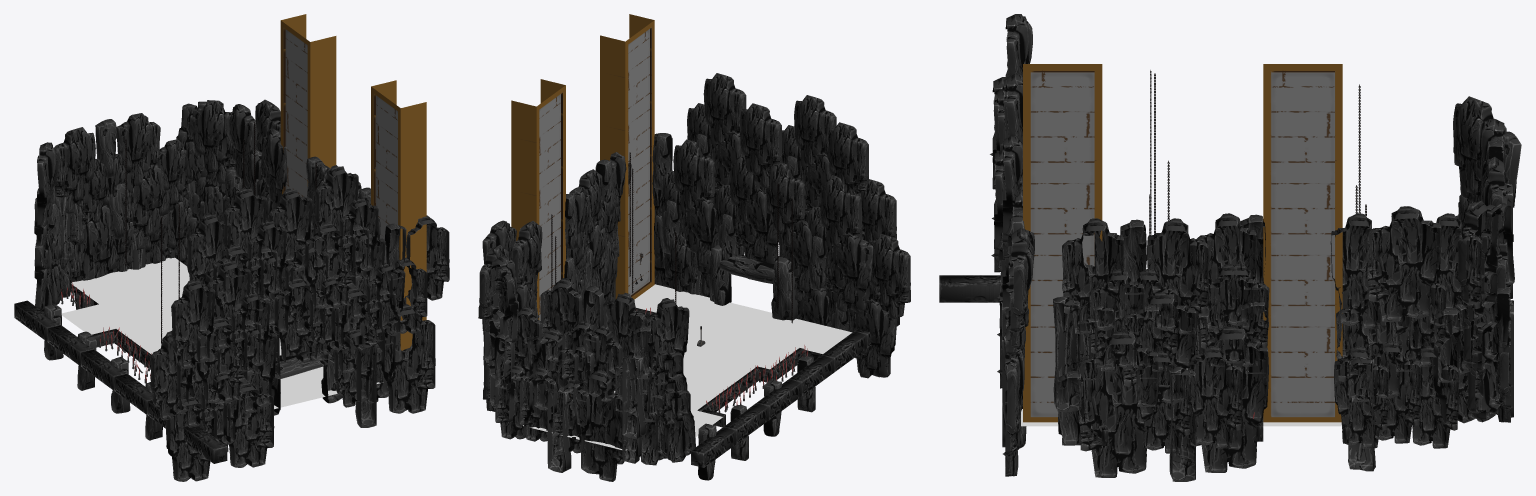
The model's file is Room1_Prototype.fbx.
The picture shows the model from 3 angles, left to right: view 1: azimuth 30°, elevation 25°; view 2: azimuth 150°, elevation 25°; view 3: azimuth 270°, elevation 25°; orthographic projection. The views are drawn at different scales.
Parts seen in each view (by area): view 1: Cube.012, Cube.006, Cube.011, roks.073, Plane.013, roks.110, roks.099, roks.086, roks.030, roks.031, roks.027, roks.085 (+63 smaller); view 2: Cube.012, Cube.006, Plane.012, Cube.011, roks.031, roks.092, roks.108, roks.111, Plane.003, roks.034, roks.102, roks.109 (+70 smaller); view 3: Cube.006, Cube.012, roks.060, roks.071, roks.062, roks.065, roks.059, roks.007, roks.004, roks.012, roks.006, roks.010 (+41 smaller).
Boxes of the visible parts, bbox=[...] form: Cube.012: bbox=[371, 113, 426, 350]; Cube.006: bbox=[280, 47, 336, 197]; Cube.011: bbox=[14, 300, 227, 463]; roks.073: bbox=[381, 304, 435, 413]; Plane.013: bbox=[71, 257, 189, 304]; roks.110: bbox=[171, 279, 215, 369]; roks.099: bbox=[222, 382, 274, 467]; roks.086: bbox=[304, 222, 355, 308]; roks.030: bbox=[54, 127, 95, 213]; roks.031: bbox=[70, 205, 118, 309]; roks.027: bbox=[192, 100, 235, 183]; roks.085: bbox=[314, 165, 358, 254]; Cube.012: bbox=[600, 47, 654, 279]; Cube.006: bbox=[511, 112, 565, 320]; Plane.012: bbox=[634, 284, 852, 353]; Cube.011: bbox=[691, 317, 899, 467]; roks.031: bbox=[573, 370, 627, 481]; roks.092: bbox=[824, 233, 873, 311]; roks.108: bbox=[739, 103, 782, 188]; roks.111: bbox=[869, 234, 910, 319]; Plane.003: bbox=[686, 321, 786, 366]; roks.034: bbox=[540, 278, 582, 362]; roks.102: bbox=[848, 299, 897, 378]; roks.109: bbox=[827, 122, 868, 196]; Cube.006: bbox=[1263, 100, 1342, 388]; Cube.012: bbox=[1023, 100, 1102, 388]; roks.060: bbox=[1078, 330, 1158, 477]; roks.071: bbox=[1366, 206, 1441, 321]; roks.062: bbox=[1147, 218, 1209, 334]; roks.065: bbox=[1188, 346, 1243, 448]; roks.059: bbox=[1062, 218, 1124, 334]; roks.007: bbox=[1188, 325, 1268, 472]; roks.004: bbox=[1404, 346, 1459, 448]; roks.012: bbox=[1336, 289, 1410, 402]; roks.006: bbox=[1195, 213, 1256, 329]; roks.010: bbox=[1330, 213, 1381, 329].
Size of the model in its own units: 2289 by 2308 by 2895.
